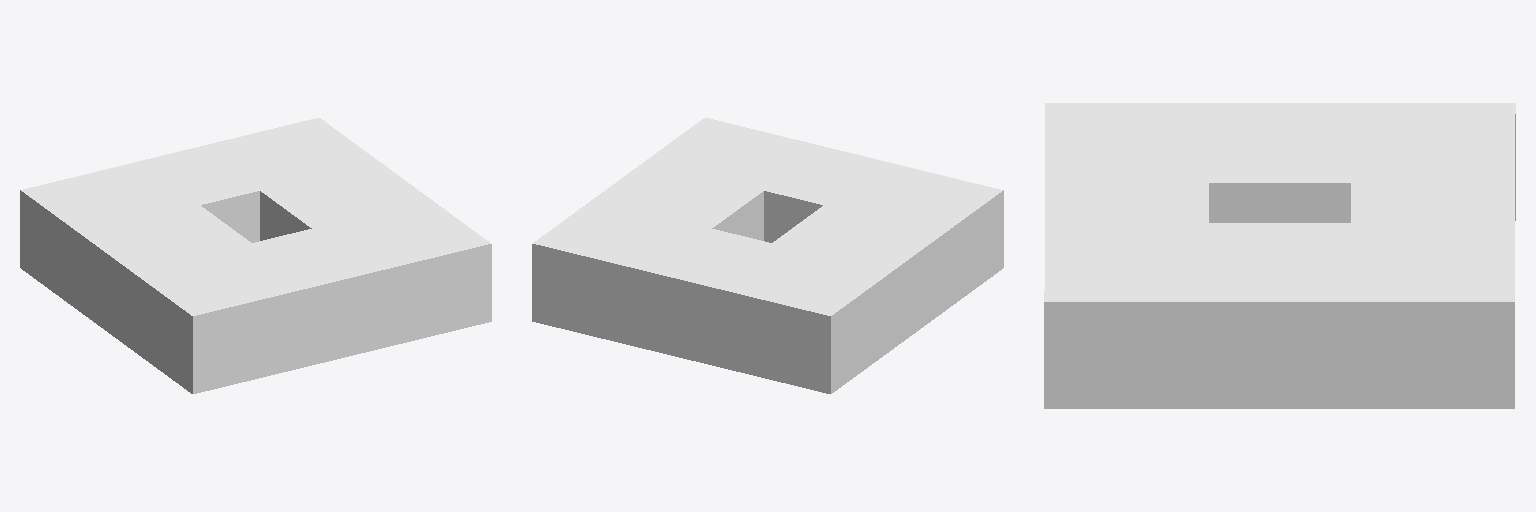
robot.urdf — urdf_robot:
<?xml version="1.0"?>
<robot name="urdf_robot">
  <link name="base_link">
    <inertial>
      <origin rpy="0 0 0" xyz="0 0 0" />
      <mass value="1.0" />
      <inertia ixx="1" ixy="0" ixz="0" iyy="1" iyz="0" izz="1" />
    </inertial>
    <visual>
      <origin rpy="0 0 1.57" xyz="0 0 0" />
      <geometry>
        <mesh filename="usb_base.obj" scale="1 1 1" />
      </geometry>
      <material name="white">
        <color rgba="1 1 1 1" />
      </material>
    </visual>
    <collision>
      <origin rpy="0 0 1.57" xyz="0 0 0" />
      <geometry>
        <mesh filename="usb_base.obj" scale="1 1 1" />
      </geometry>
    </collision>
  </link>
</robot>

--- What the picture shows (computed from the rendered views, not written in the file) ---
The picture shows the robot from 3 angles, left to right: view 1: azimuth 30°, elevation 25°; view 2: azimuth 150°, elevation 25°; view 3: azimuth 270°, elevation 25°; orthographic projection.
Robot: urdf_robot — 1 links, 0 joints (none); root link base_link; default pose: every joint at zero.
Visible links, largest first — view 1: base_link; view 2: base_link; view 3: base_link.
Boxes of the visible links, left/top/right/bottom form: base_link: left=20, top=118, right=491, bottom=393; base_link: left=532, top=118, right=1003, bottom=393; base_link: left=1044, top=103, right=1515, bottom=408.
Size in the robot's own frame: 0.1001 by 0.1001 by 0.025 metres.
Meshes: 1 distinct files referenced, 1 mesh visuals loaded (1 OBJ).